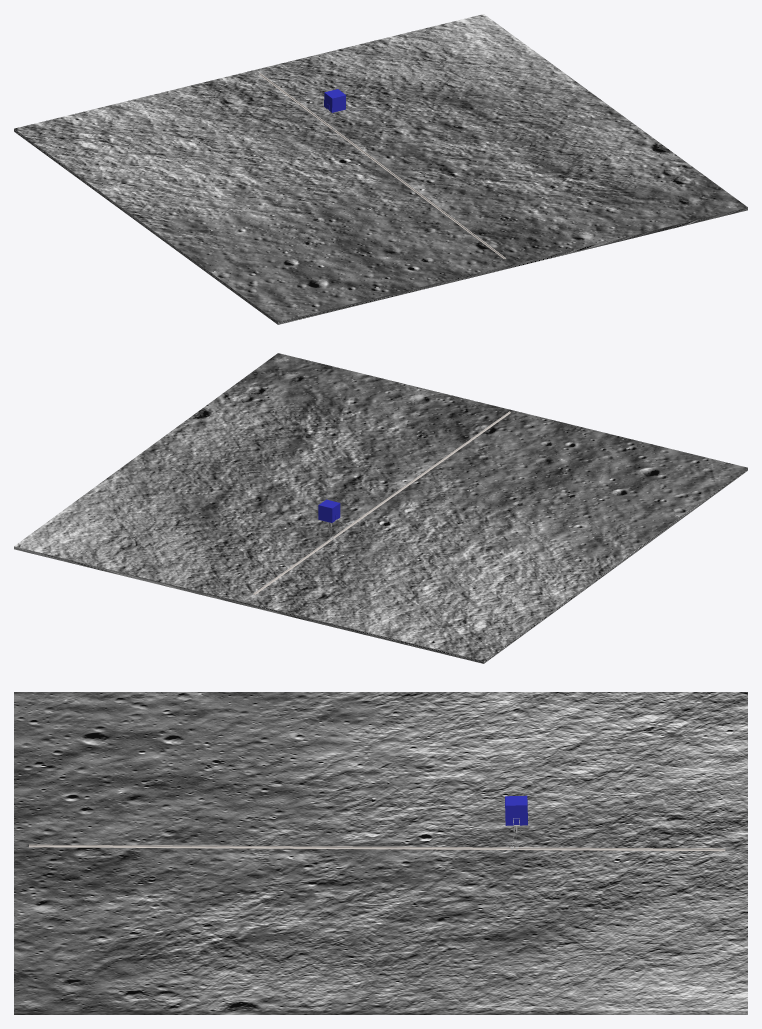
Rendered from drone.glb.
3 renders of one model, top to bottom at view 1: azimuth 30°, elevation 25°; view 2: azimuth 150°, elevation 25°; view 3: azimuth 270°, elevation 25°, orthographic. The views are drawn at different scales.
Parts seen in each view (by area): view 1: Cube, Body1.003; view 2: Cube, Body1.003; view 3: Cube, Body1.003.
Part boxes in pixels (x1,y1,x2,y2): Cube: (14, 14, 747, 324); Body1.003: (259, 73, 505, 258); Cube: (14, 353, 747, 663); Body1.003: (253, 411, 510, 594); Cube: (14, 692, 747, 1014); Body1.003: (29, 844, 725, 851).
Size of the model in its own units: 27.05 by 2.26 by 26.33.
4 materials, 1 textured.
